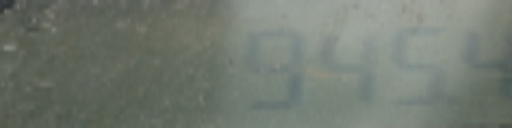0: (196, 17, 236, 128)
4: (317, 21, 386, 128), (460, 13, 512, 111)
5: (239, 21, 309, 121), (391, 4, 445, 128)
d: (448, 90, 461, 113)
